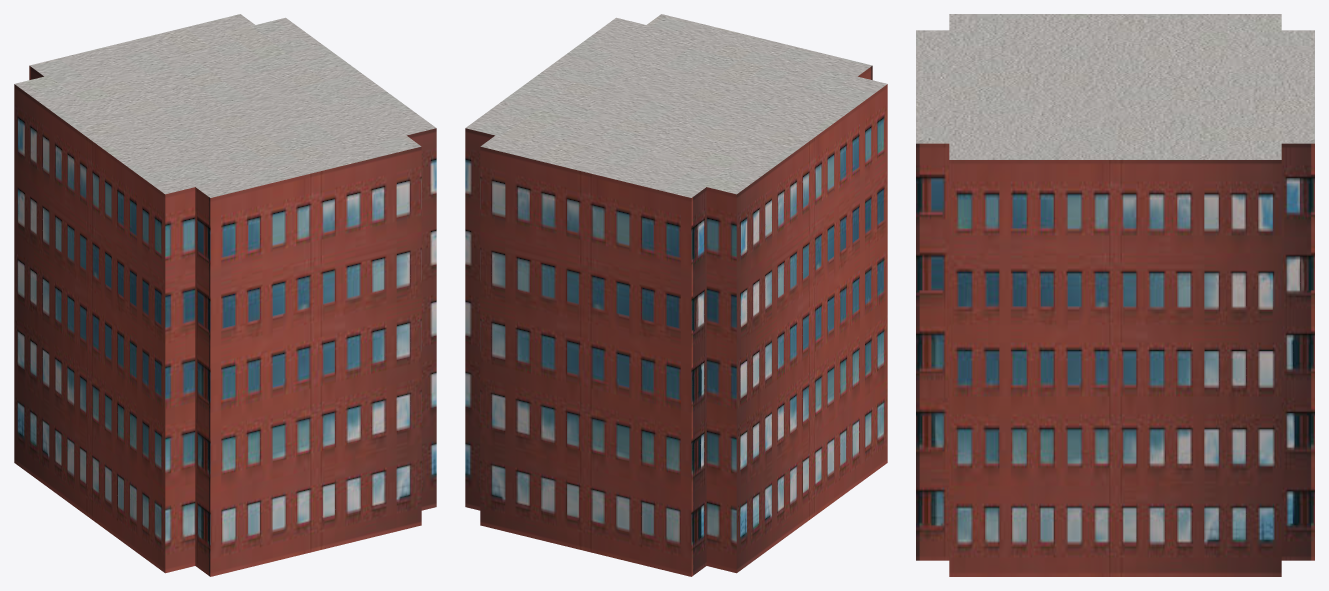
File: office_5.glb
3 renders of one model, left to right at view 1: azimuth 30°, elevation 25°; view 2: azimuth 150°, elevation 25°; view 3: azimuth 270°, elevation 25°, orthographic. The views are drawn at different scales.
Visible parts, largest first — view 1: building_033; view 2: building_033; view 3: building_033.
Boxes of the visible parts, x1,y1,x2,y2 form: building_033: [14, 14, 436, 576]; building_033: [465, 14, 887, 576]; building_033: [916, 14, 1314, 576].
Size of the model in its own units: 1350 by 1800 by 1560.
2 materials, 2 textured.
